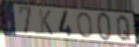0: (96, 12, 113, 42)
4: (57, 8, 75, 38)
7: (17, 5, 33, 36)
K: (38, 8, 54, 37)
O: (76, 11, 94, 40)
Q: (116, 15, 132, 42)
